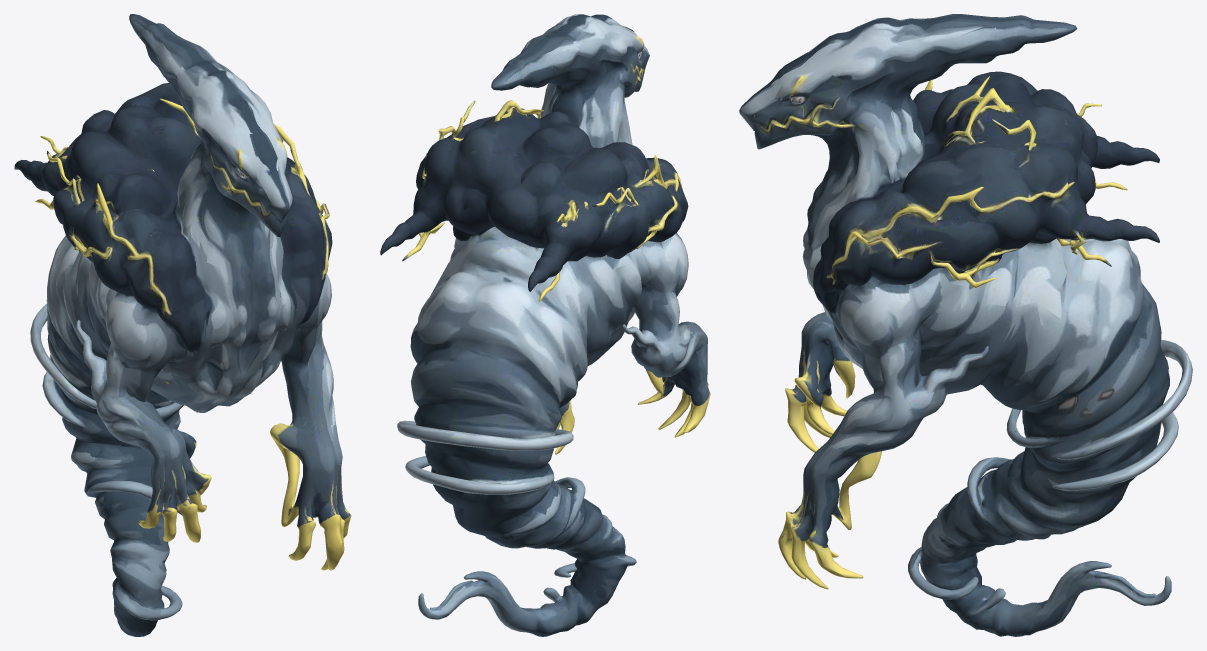
3 renders of one model, left to right at view 1: azimuth 30°, elevation 25°; view 2: azimuth 150°, elevation 25°; view 3: azimuth 270°, elevation 25°, orthographic. The views are drawn at different scales.
Visible parts, largest first — view 1: Mesh_0; view 2: Mesh_0; view 3: Mesh_0.
Part boxes in pixels (<box>): Mesh_0: <box>14,14,351,636</box>; Mesh_0: <box>380,14,710,636</box>; Mesh_0: <box>739,14,1192,636</box>.
Size of the model in its own units: 0.7752 by 1.9 by 1.24.
Materials: 1 (1 with a texture image).
